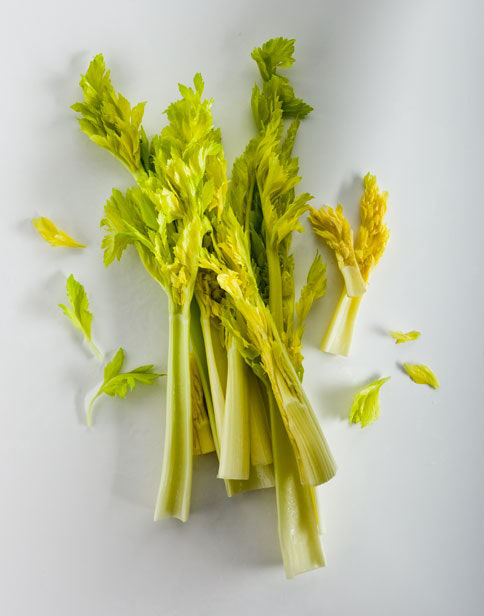Seledri: (67, 73, 432, 582)
